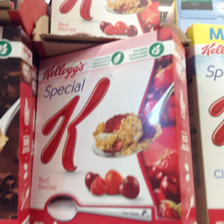cereal: (31, 26, 197, 221)
